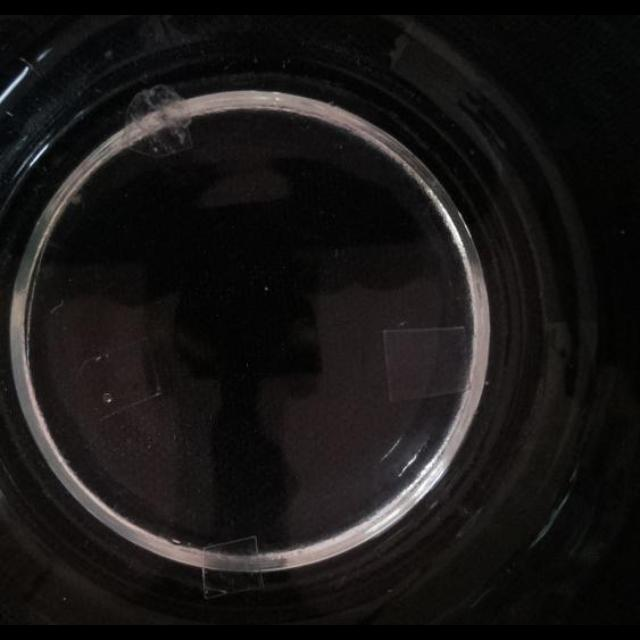Film: (72, 333, 162, 421), (378, 323, 476, 402), (202, 534, 266, 600)
Fragment: (122, 84, 194, 158)
